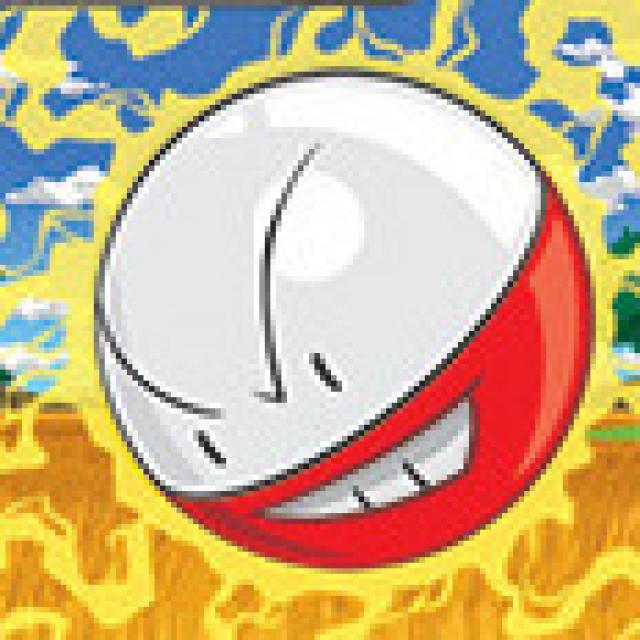Electrode: (80, 62, 610, 576)
